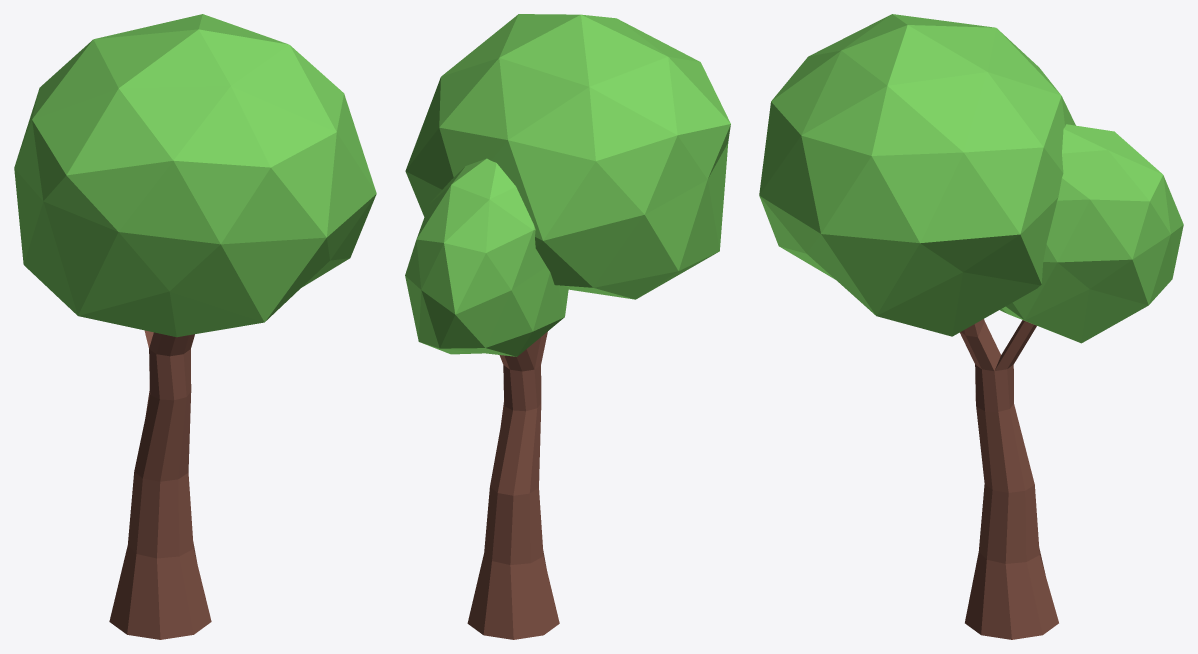
The model's file is Arvore5.fbx.
3 renders of one model, left to right at view 1: azimuth 30°, elevation 25°; view 2: azimuth 150°, elevation 25°; view 3: azimuth 270°, elevation 25°, orthographic. The views are drawn at different scales.
Visible parts, largest first — view 1: Icosphere.002; view 2: Icosphere.002; view 3: Icosphere.002.
Boxes of the visible parts, x1=… form: Icosphere.002: x1=14, y1=14, x2=376, y2=639; Icosphere.002: x1=405, y1=14, x2=730, y2=639; Icosphere.002: x1=759, y1=14, x2=1183, y2=639.
Bounding box in the file's own units: 241 × 472 × 310.
Materials: 1 (1 with a texture image).
